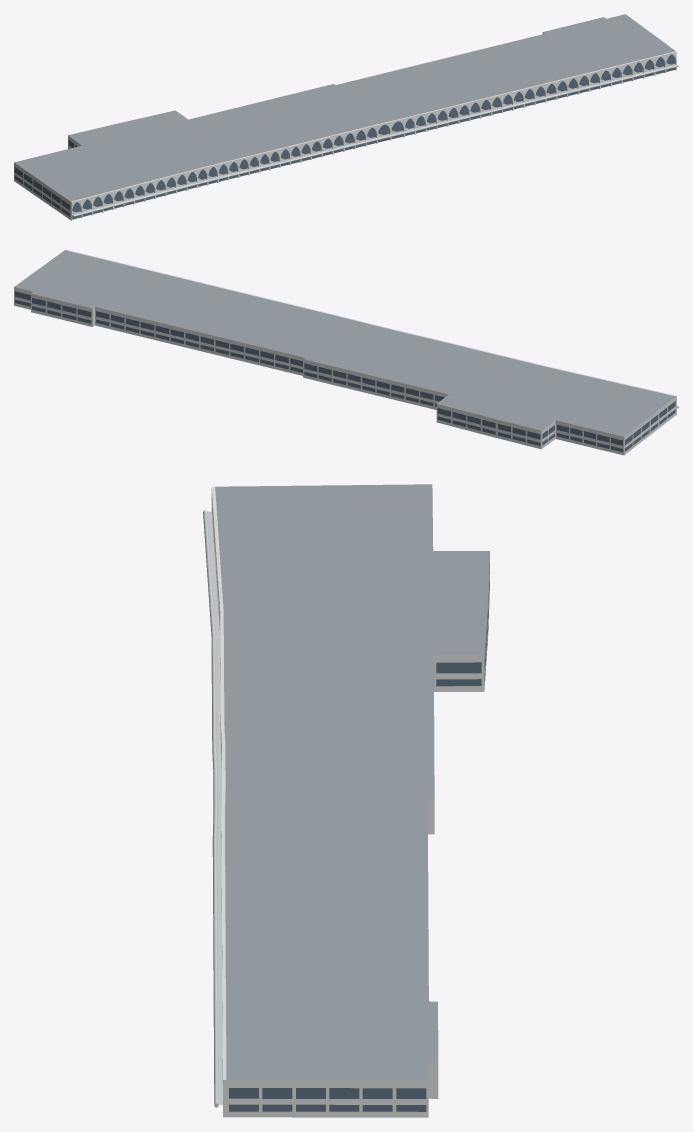
The model's file is dubai-dxb-terminal-1.detail.glb.
3 views of the same model, one above another, from view 1: azimuth 30°, elevation 25°; view 2: azimuth 150°, elevation 25°; view 3: azimuth 270°, elevation 25° (orthographic). The views are drawn at different scales.
Parts seen in each view (by area): view 1: Dubai International Airport Terminal 1; view 2: Dubai International Airport Terminal 1; view 3: Dubai International Airport Terminal 1.
Boxes of the visible parts, <box> form: Dubai International Airport Terminal 1: <box>14,14,678,220</box>; Dubai International Airport Terminal 1: <box>14,249,678,455</box>; Dubai International Airport Terminal 1: <box>203,484,489,1117</box>.
Bounding box in the file's own units: 651 × 19 × 132.
